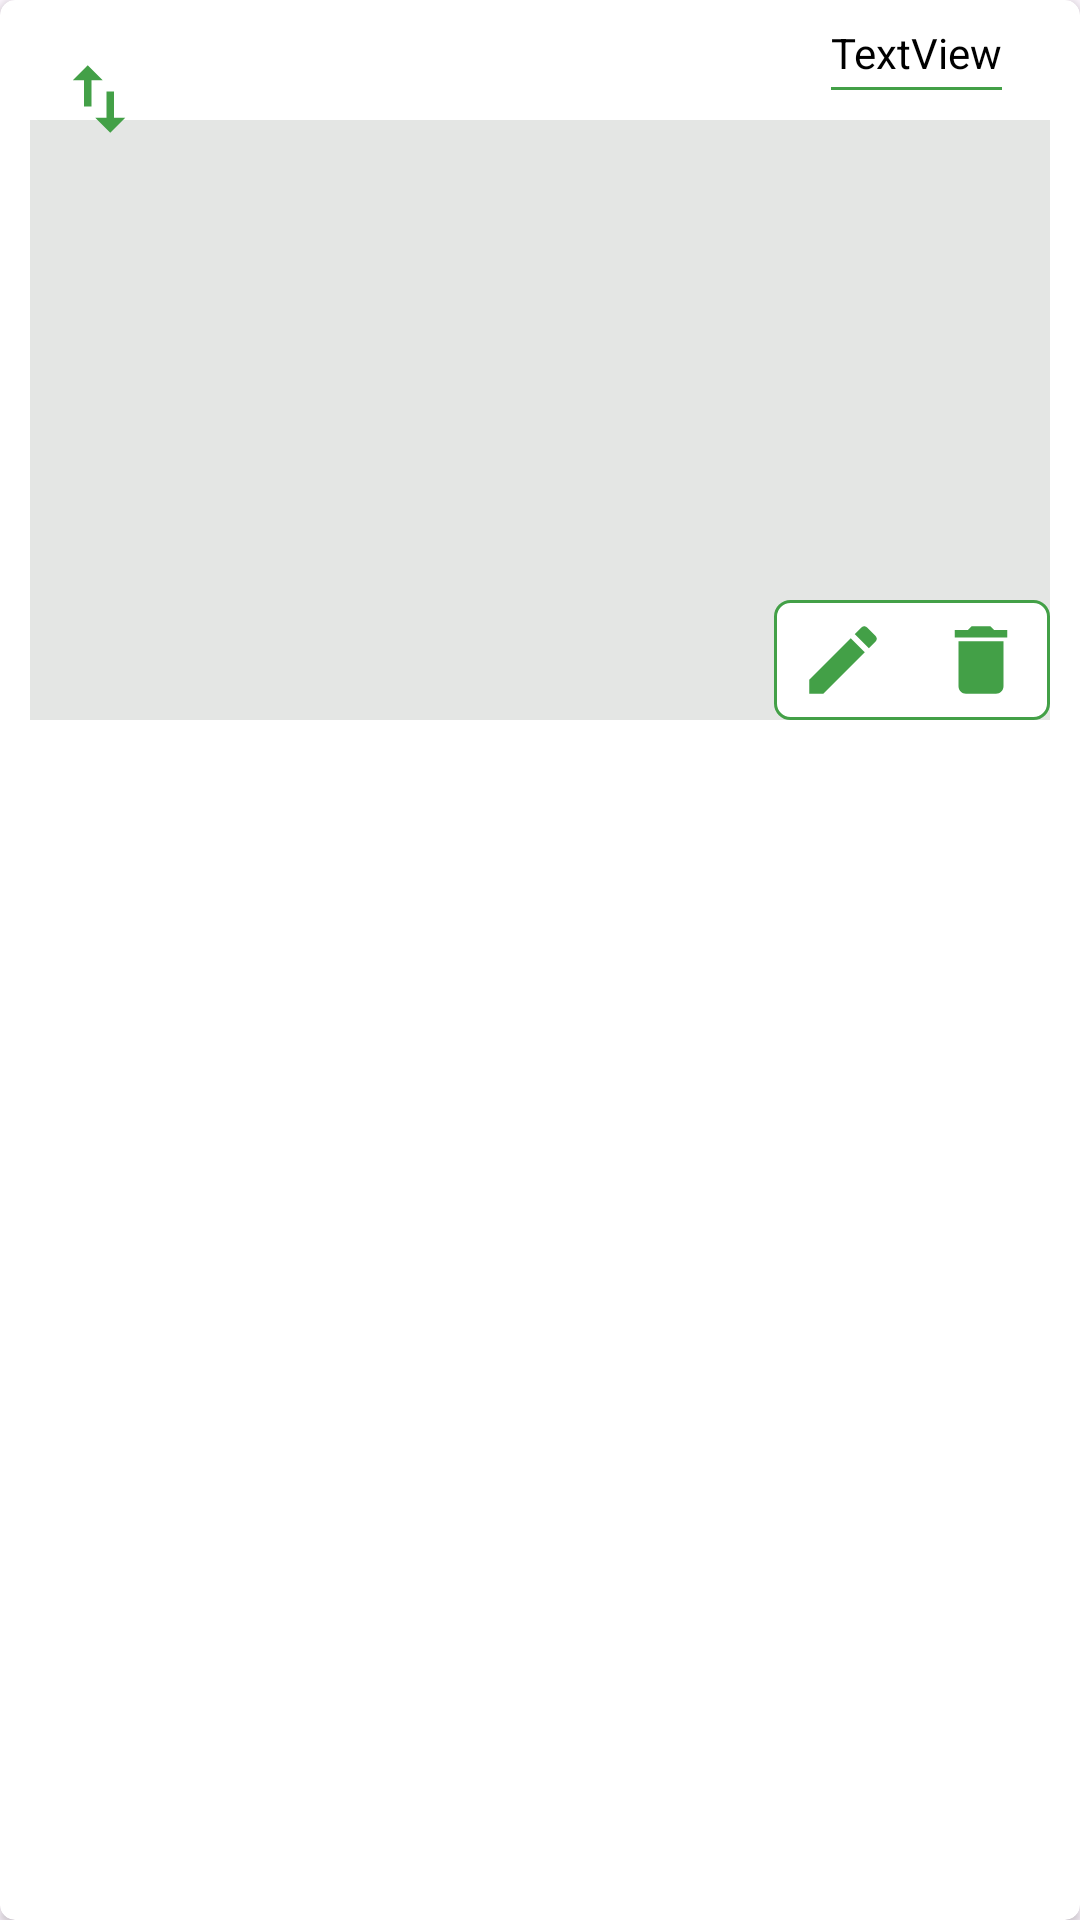

Locate icon controls on the screen. Image size 1080x1920, boxes as BBox(x1, y1, x2, y2).
delete: BBox(954, 626, 1008, 694)
drag: BBox(30, 65, 174, 174)
Edit image button: BBox(809, 626, 877, 694)
